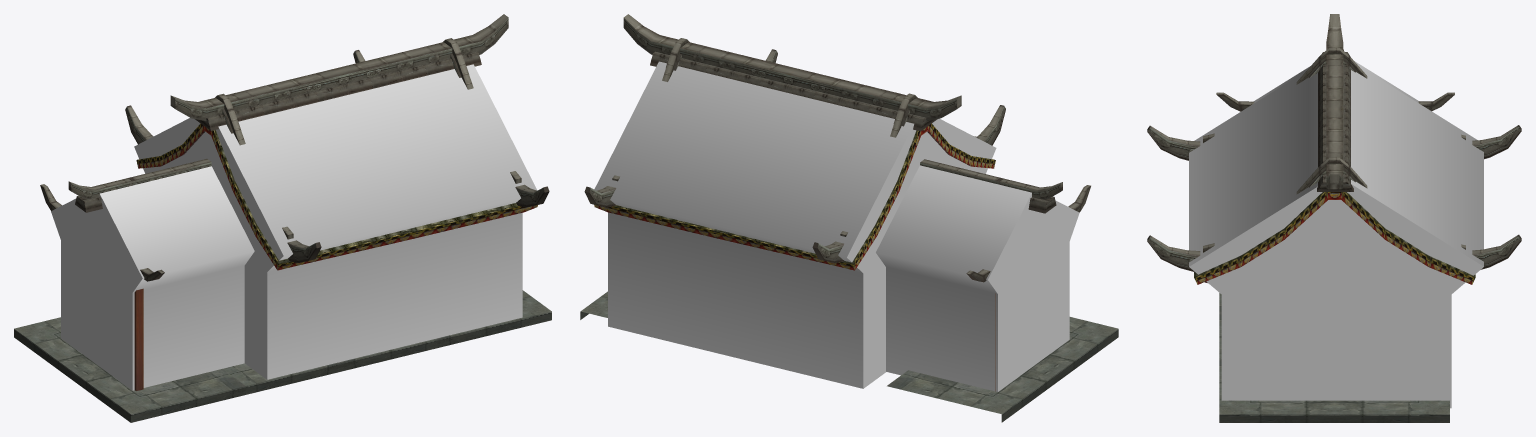
The model's file is YHJ_budian.FBX.
3 views of the same model, side by side, from view 1: azimuth 30°, elevation 25°; view 2: azimuth 150°, elevation 25°; view 3: azimuth 270°, elevation 25° (orthographic).
Parts seen in each view (by area): view 1: YHJ_budian-col, YHJ_budian; view 2: YHJ_budian-col, YHJ_budian; view 3: YHJ_budian-col, YHJ_budian.
Boxes of the visible parts, x1,y1,x2,y2 form: YHJ_budian-col: (51, 64, 537, 390); YHJ_budian: (14, 14, 551, 422); YHJ_budian-col: (594, 61, 1079, 391); YHJ_budian: (580, 14, 1118, 422); YHJ_budian-col: (1189, 61, 1483, 408); YHJ_budian: (1147, 14, 1521, 422).
Bounding box in the file's own units: 19.3 × 10.94 × 14.57.
